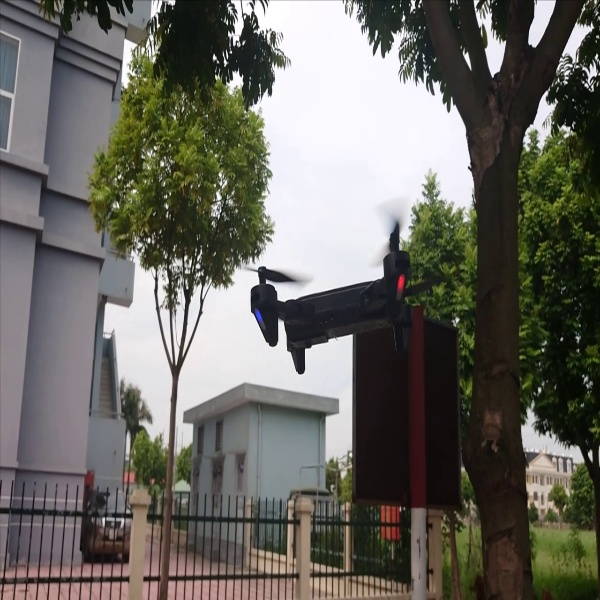drone: (231, 214, 437, 375)
